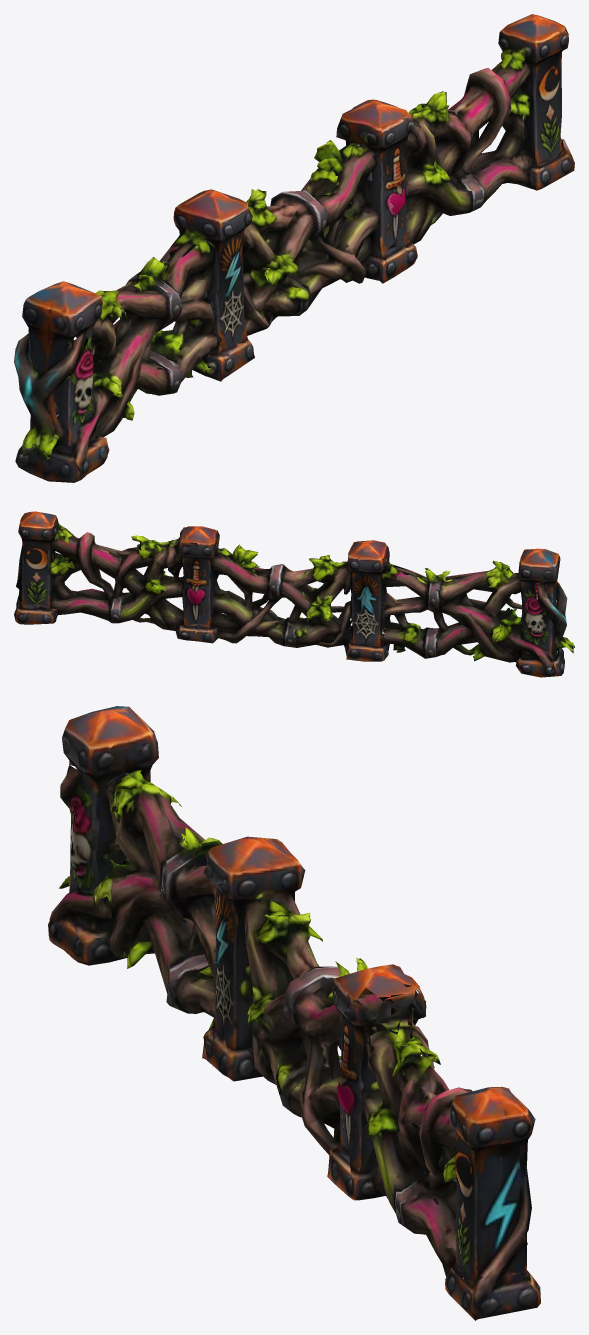
Rendered from GW_D04_root_fence.glb.
3 renders of one model, top to bottom at view 1: azimuth 30°, elevation 25°; view 2: azimuth 150°, elevation 25°; view 3: azimuth 270°, elevation 25°, orthographic. The views are drawn at different scales.
Visible parts, largest first — view 1: tripo_part_0, tripo_part_3, tripo_part_4, tripo_part_6, tripo_part_1, tripo_part_5, tripo_part_7, tripo_part_10, tripo_part_2, tripo_part_11, tripo_part_8, tripo_part_9; view 2: tripo_part_3, tripo_part_0, tripo_part_4, tripo_part_1, tripo_part_7, tripo_part_5, tripo_part_6, tripo_part_10, tripo_part_2, tripo_part_9, tripo_part_8, tripo_part_11 (+1 smaller); view 3: tripo_part_3, tripo_part_0, tripo_part_4, tripo_part_7, tripo_part_1, tripo_part_6, tripo_part_5, tripo_part_9, tripo_part_2, tripo_part_8, tripo_part_11.
Part boxes in pixels (x1,y1,x2,y2): tripo_part_0: (243,141,378,335); tripo_part_3: (34,230,218,473); tripo_part_4: (392,49,533,247); tripo_part_6: (22,281,102,448); tripo_part_1: (173,189,252,353); tripo_part_5: (336,100,414,252); tripo_part_7: (498,14,568,163); tripo_part_10: (14,333,86,455); tripo_part_2: (15,414,109,482); tripo_part_11: (365,236,417,283); tripo_part_8: (193,332,254,381); tripo_part_9: (518,138,574,190); tripo_part_3: (382,560,557,671); tripo_part_0: (210,545,352,647); tripo_part_4: (48,523,185,630); tripo_part_1: (347,540,389,646); tripo_part_7: (16,511,58,607); tripo_part_5: (165,526,219,627); tripo_part_6: (518,548,560,655); tripo_part_10: (537,581,573,652); tripo_part_2: (515,643,564,677); tripo_part_9: (14,594,58,624); tripo_part_8: (344,633,389,661); tripo_part_11: (175,623,217,643); tripo_part_3: (49,770,261,1028); tripo_part_0: (243,893,394,1155); tripo_part_4: (357,1000,472,1277); tripo_part_7: (450,1086,535,1282); tripo_part_1: (203,836,305,1050); tripo_part_6: (62,706,158,892); tripo_part_5: (332,964,425,1173); tripo_part_9: (445,1262,540,1320); tripo_part_2: (48,916,145,965); tripo_part_8: (202,1024,262,1081); tripo_part_11: (327,1139,377,1200).
Size of the model in its own units: 0.9909 by 0.2642 by 0.4604.
Materials: 1 (1 with a texture image).
